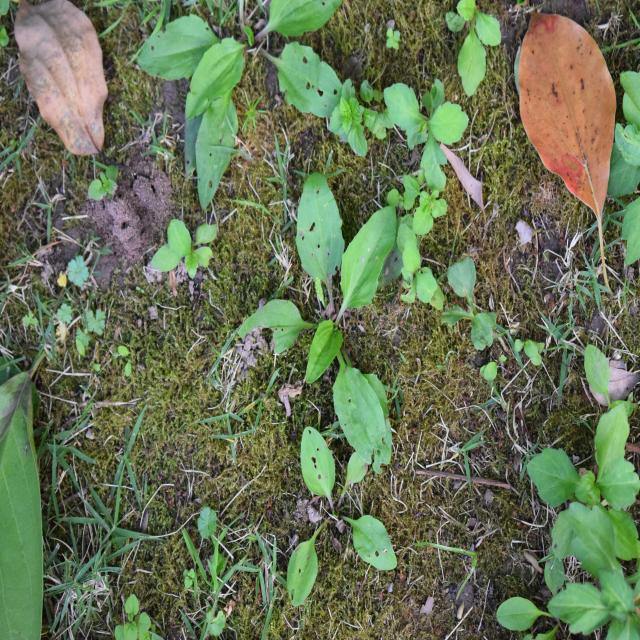plantain: (258, 170, 421, 490)
